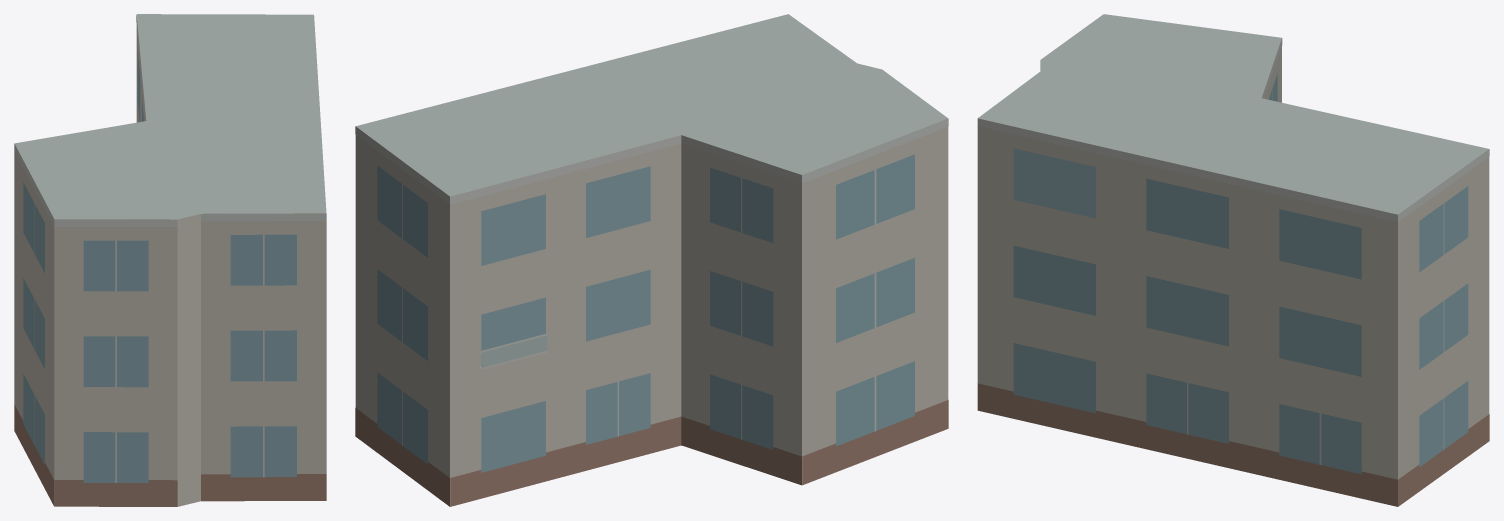
Rendered from survey-upis-32476282.glb.
The picture shows the model from 3 angles, left to right: view 1: azimuth 30°, elevation 25°; view 2: azimuth 150°, elevation 25°; view 3: azimuth 270°, elevation 25°; orthographic projection. The views are drawn at different scales.
Visible parts, largest first — view 1: survey-upis-32476282.tmp; view 2: survey-upis-32476282.tmp; view 3: survey-upis-32476282.tmp.
Boxes of the visible parts, x1,y1,x2,y2 form: survey-upis-32476282.tmp: (14, 14, 326, 506); survey-upis-32476282.tmp: (355, 14, 948, 506); survey-upis-32476282.tmp: (977, 14, 1489, 506).
Bounding box in the file's own units: 13.56 × 9.2 × 14.61.
